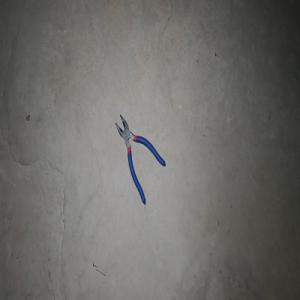Pliers: (114, 114, 165, 205)
